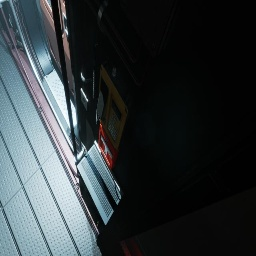EmergencyPhone ,: (93, 42, 132, 151)
FireAlarm ,: (98, 123, 119, 170)
